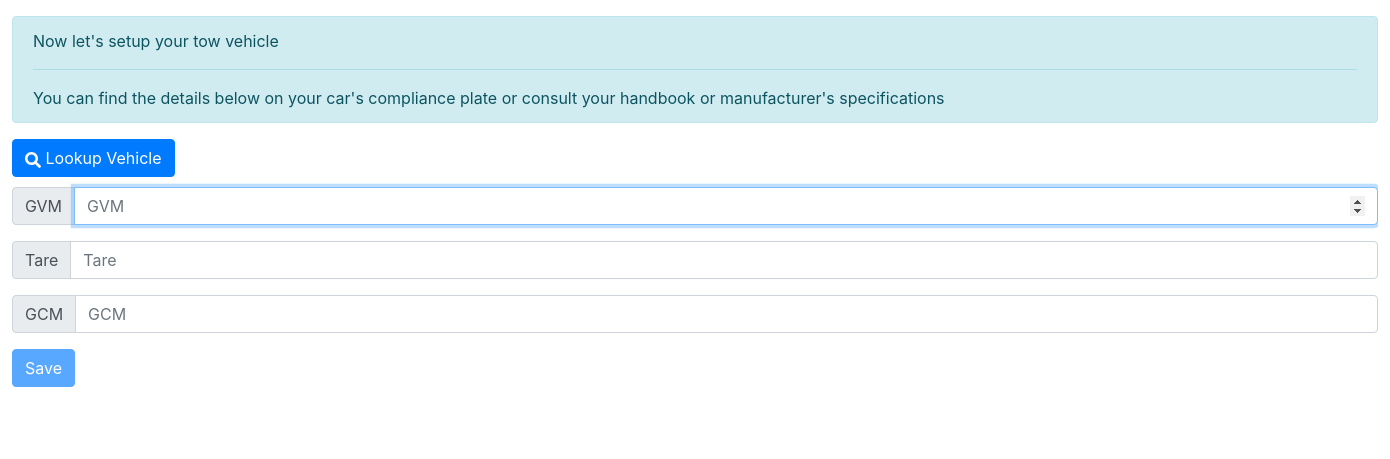
Test: shows the accessories setup once the config has been saved
The image size is (1390, 459).
In the number field with placeholder "GVM": {"x": 726, "y": 206} [74,187,1378,225], type "2000"
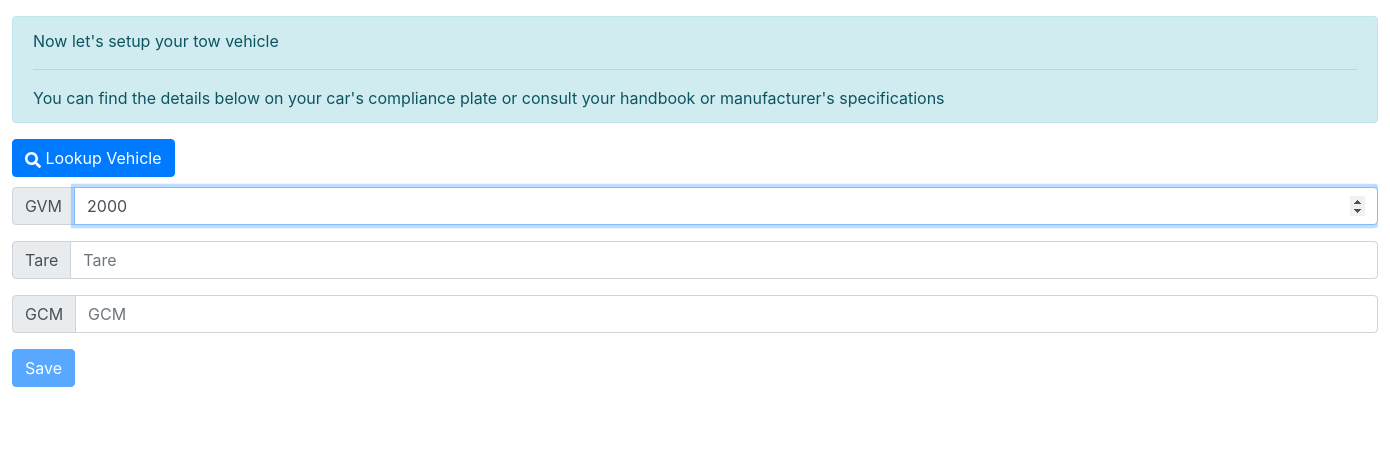
In the number field with placeholder "Tare": {"x": 724, "y": 260} [70,241,1378,279], type "1000"
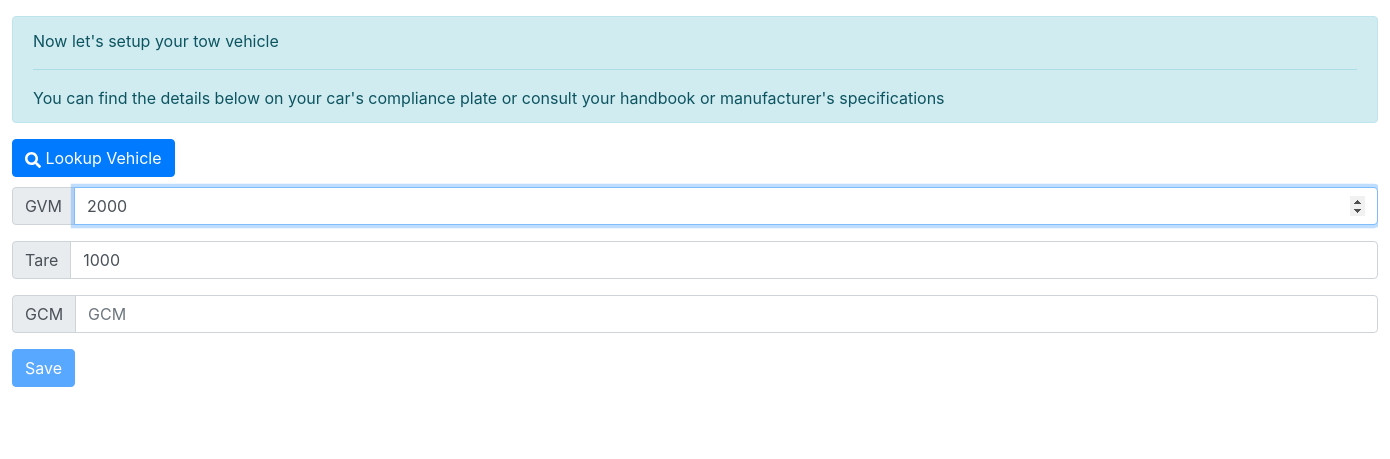
In the number field with placeholder "GCM": {"x": 727, "y": 314} [75,295,1378,333], type "3000"
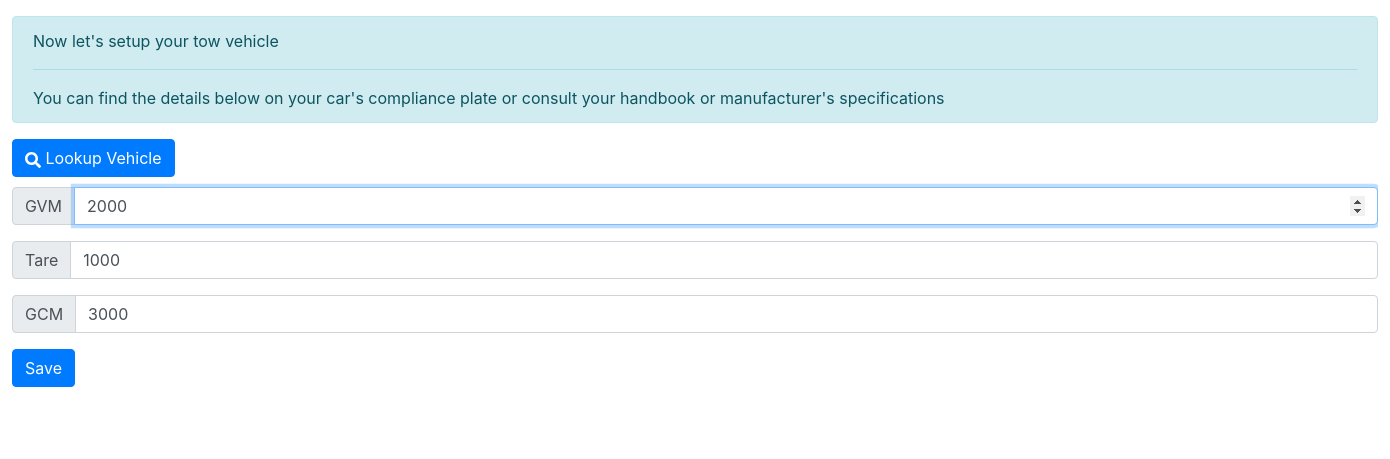
Click the button "Save": {"x": 44, "y": 368} [12,349,75,387]
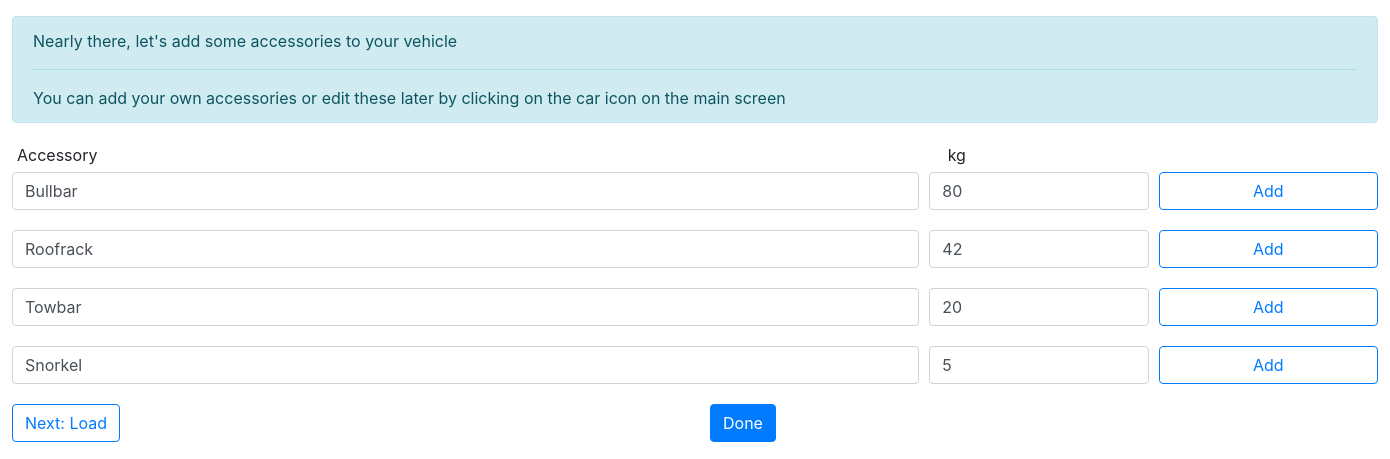
Now the 1st field with placeholder "Accessory" holds "Bullbar", box [12,172,919,210]
